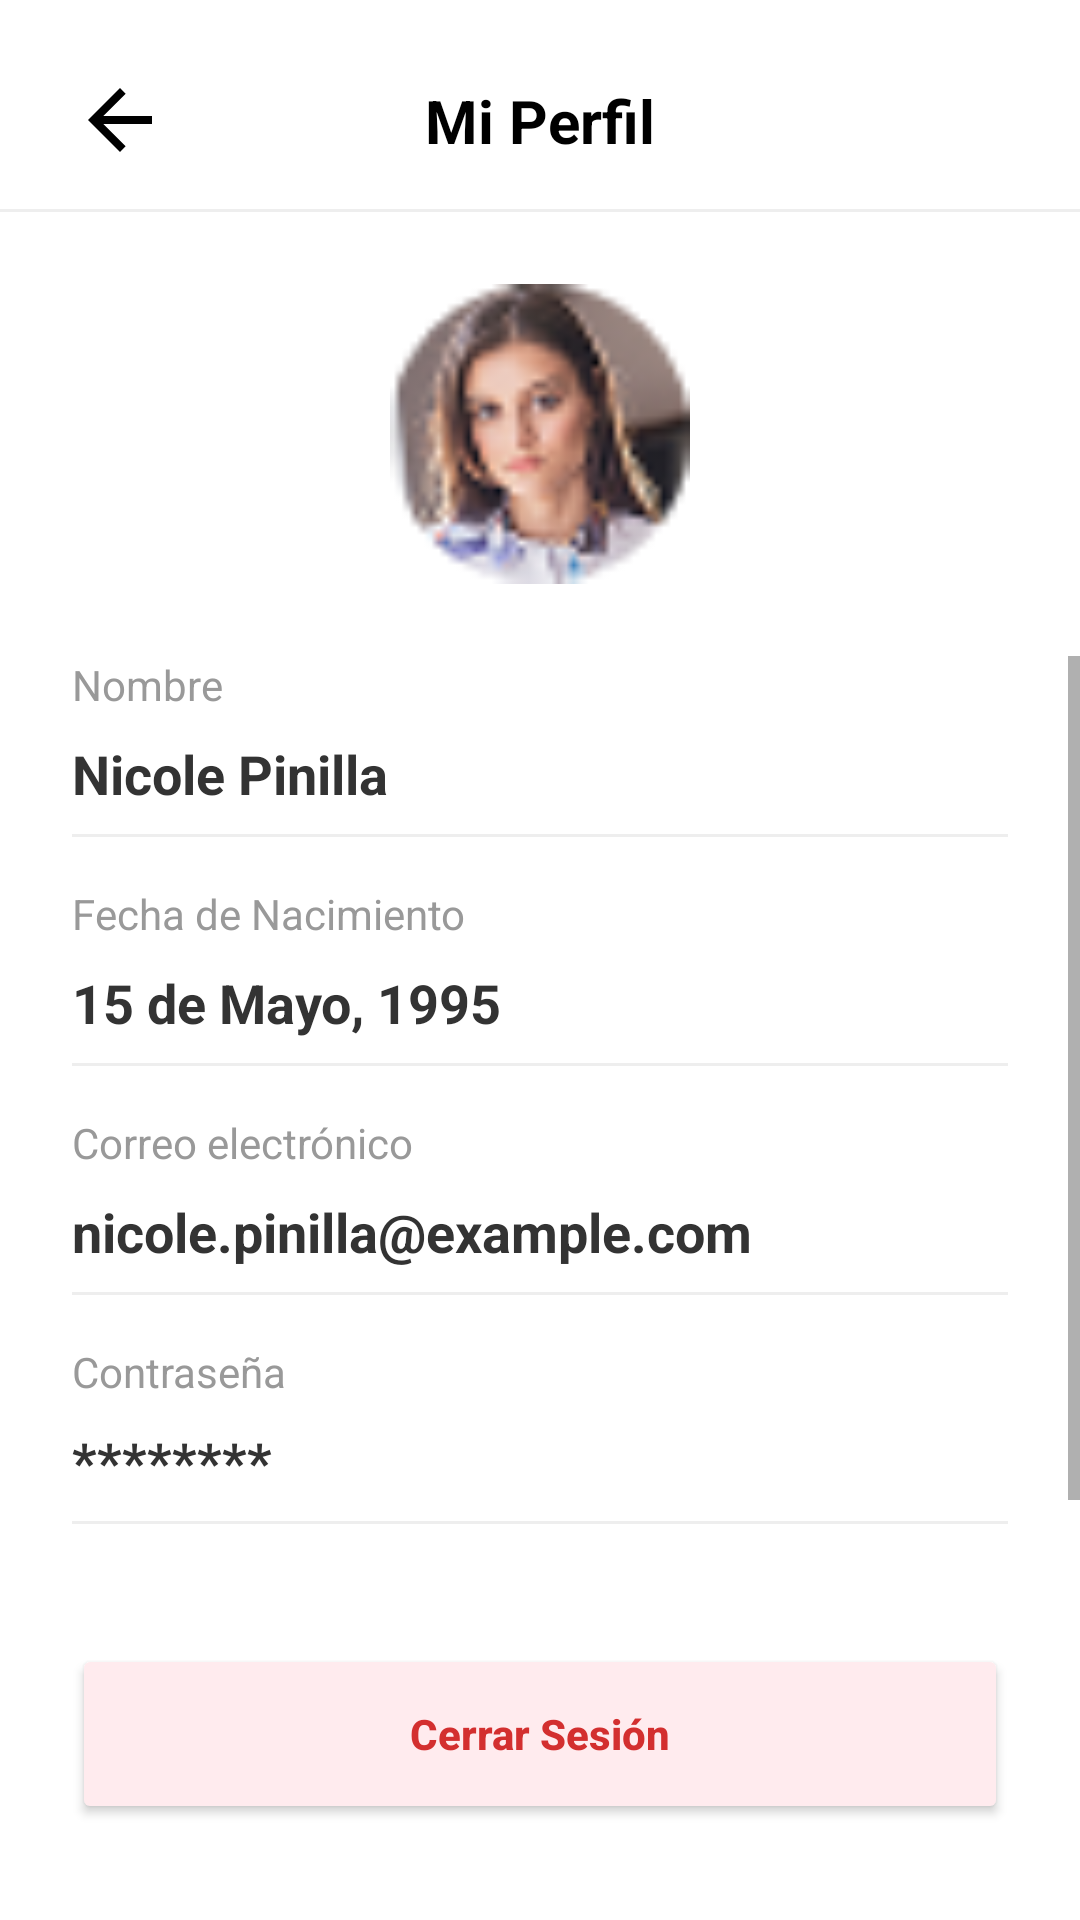

Screen size 1080w x 1920h. Icon name, then its center in pixels as point (x, y):
back: point (120, 120)
foto perfil: point (540, 434)
